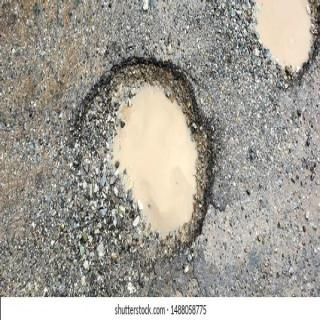pothole: (80, 60, 214, 240), (255, 0, 311, 69)
